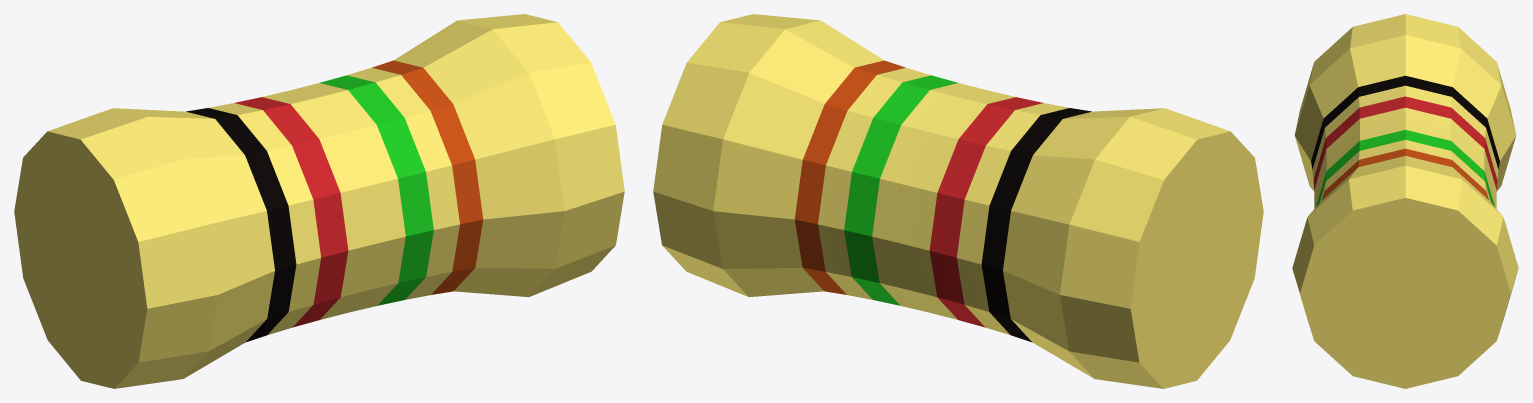
File: 3D_Resistance2.fbx
3 renders of one model, left to right at view 1: azimuth 30°, elevation 25°; view 2: azimuth 150°, elevation 25°; view 3: azimuth 270°, elevation 25°, orthographic. The views are drawn at different scales.
Visible parts, largest first — view 1: to_unity_Resistance_origin2; view 2: to_unity_Resistance_origin2; view 3: to_unity_Resistance_origin2.
Boxes of the visible parts, x1=… form: to_unity_Resistance_origin2: x1=14, y1=14, x2=624, y2=388; to_unity_Resistance_origin2: x1=653, y1=14, x2=1263, y2=388; to_unity_Resistance_origin2: x1=1292, y1=14, x2=1518, y2=388.
Size of the model in its own units: 13.22 by 6.85 by 6.85.
